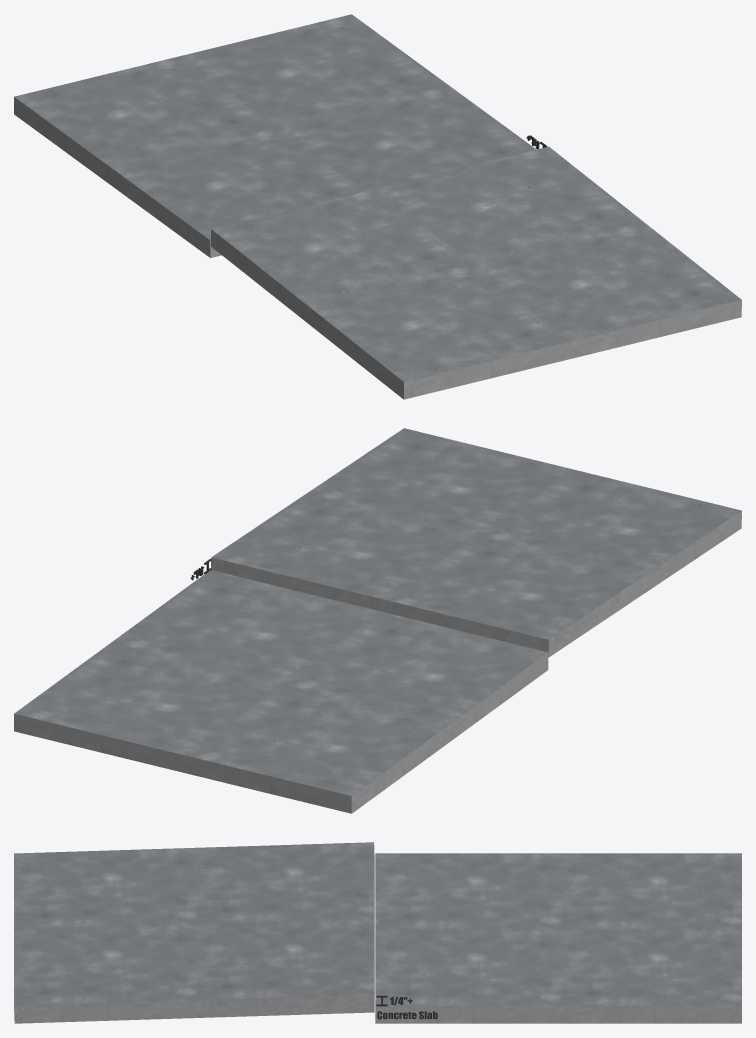
The model's file is trip hazard.gltf.
3 views of the same model, one above another, from view 1: azimuth 30°, elevation 25°; view 2: azimuth 150°, elevation 25°; view 3: azimuth 270°, elevation 25° (orthographic). The views are drawn at different scales.
Parts seen in each view (by area): view 1: CSP 1-CSP 1, CSP 1-Concrete; view 2: CSP 1-CSP 1, CSP 1-Concrete (×2); view 3: CSP 1-CSP 1, CSP 1-Concrete.
Boxes of the visible parts, <box> form: CSP 1-CSP 1: <box>14,14,741,382</box>; CSP 1-Concrete: <box>14,97,741,399</box>; CSP 1-CSP 1: <box>14,428,741,795</box>; CSP 1-Concrete (×2): <box>14,511,741,813</box>; CSP 1-CSP 1: <box>14,842,741,1007</box>; CSP 1-Concrete: <box>14,996,741,1023</box>.
Bounding box in the file's own units: 1 × 0.084 × 2.
3 materials, 2 textured.
